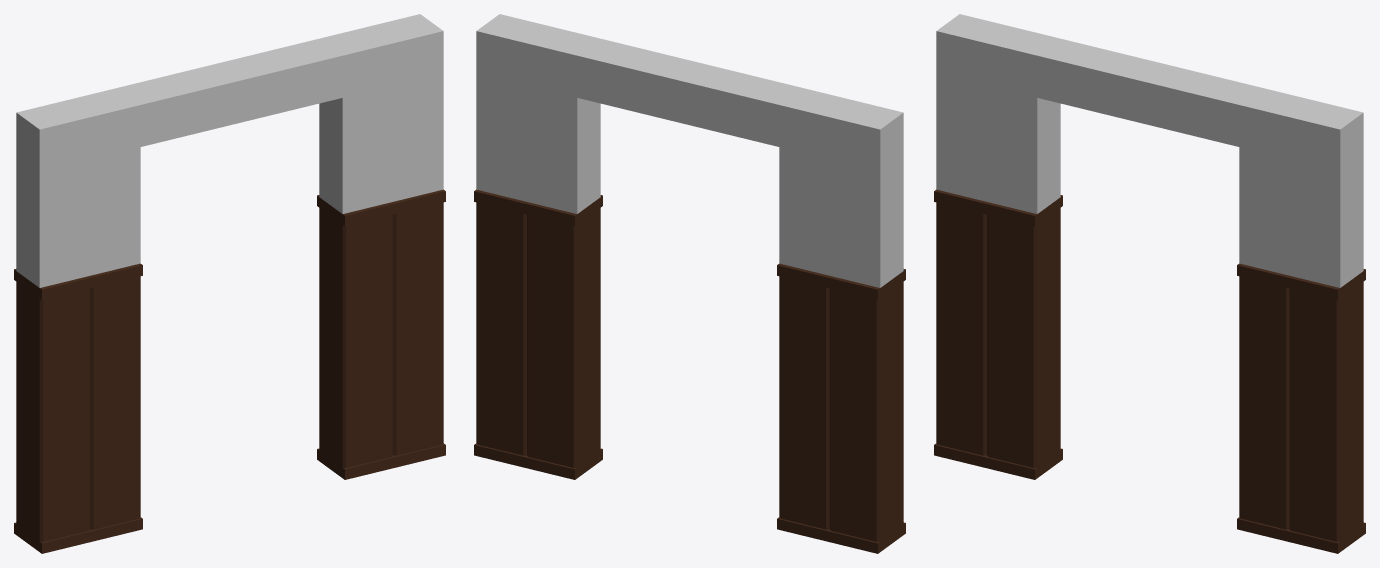
File: Doorway.fbx
The picture shows the model from 3 angles, left to right: view 1: azimuth 30°, elevation 25°; view 2: azimuth 150°, elevation 25°; view 3: azimuth 330°, elevation 25°; orthographic projection.
Parts seen in each view (by area): view 1: Doorway; view 2: Doorway; view 3: Doorway.
Part boxes in pixels (left/top/right/bottom): Doorway: left=14, top=14, right=445, bottom=553; Doorway: left=474, top=14, right=905, bottom=553; Doorway: left=934, top=14, right=1365, bottom=553.
Size of the model in its own units: 20 by 20 by 2.4.
